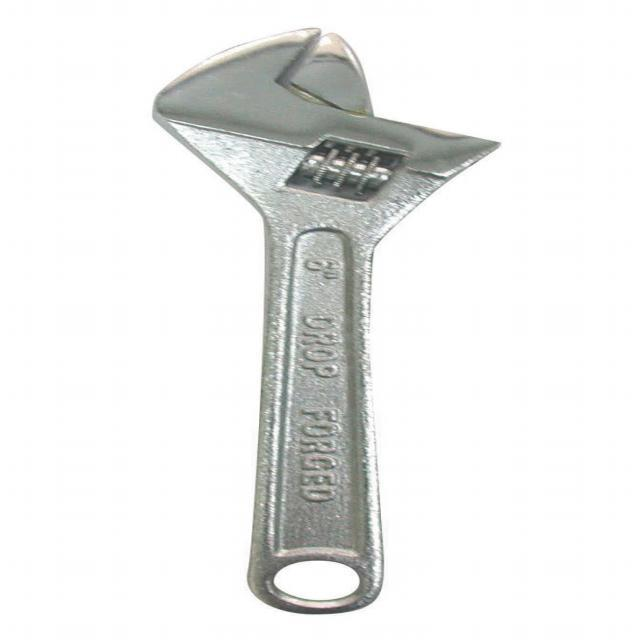wrench: (131, 19, 518, 622)
